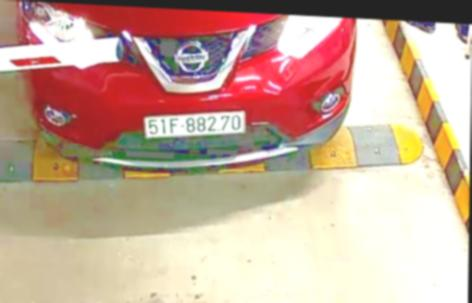License_Plate: (139, 104, 254, 144)
